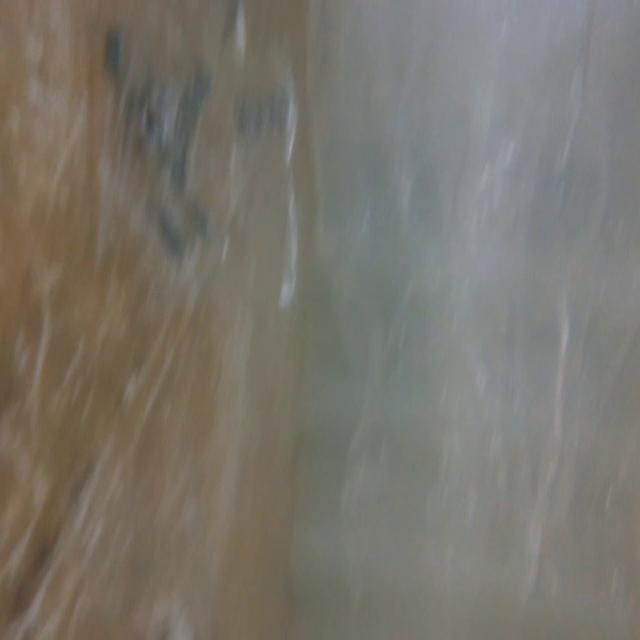plastic bags: (328, 0, 608, 588), (59, 0, 316, 315)
